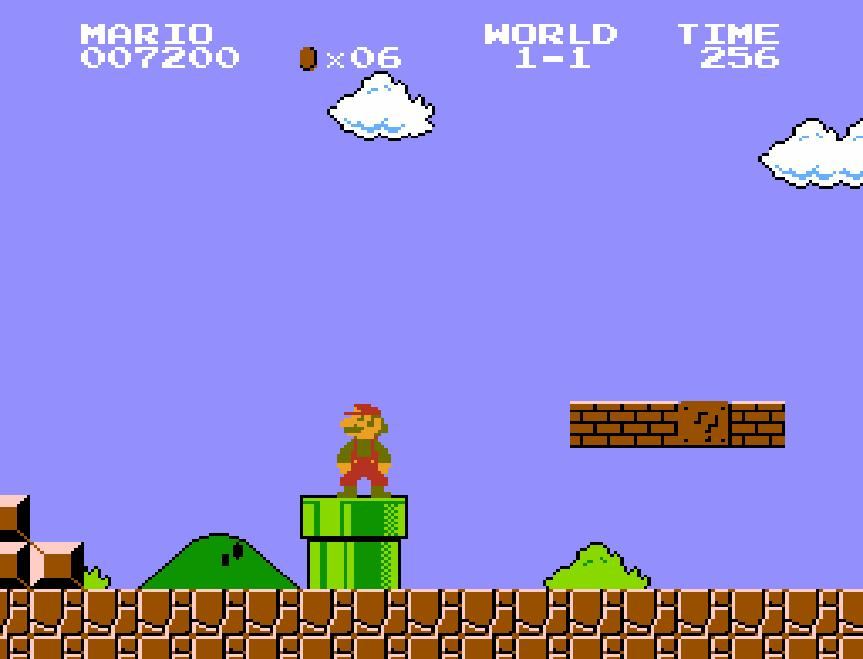big_mario: (335, 402, 393, 500)
